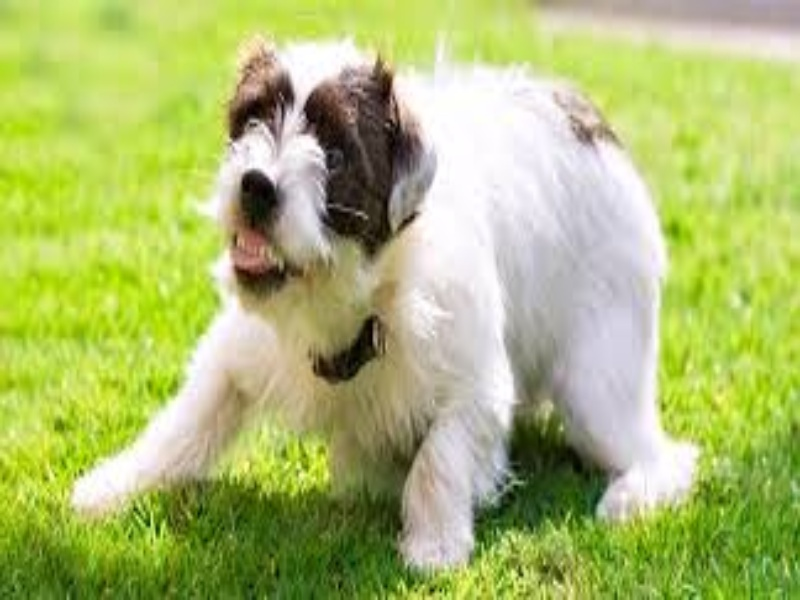dog: (48, 15, 746, 578)
